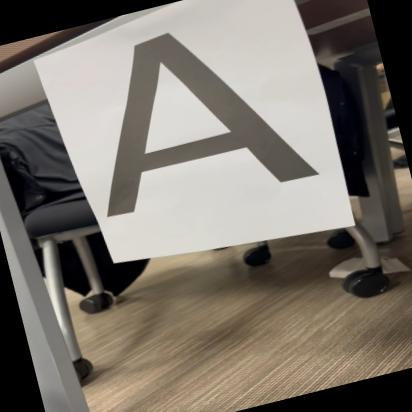seat: (60, 2, 324, 232)
